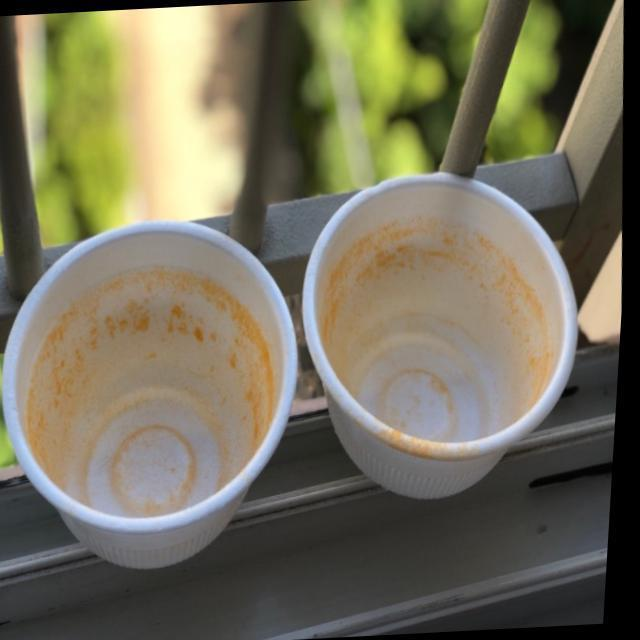disposable: (0, 214, 317, 581), (294, 156, 580, 513)
